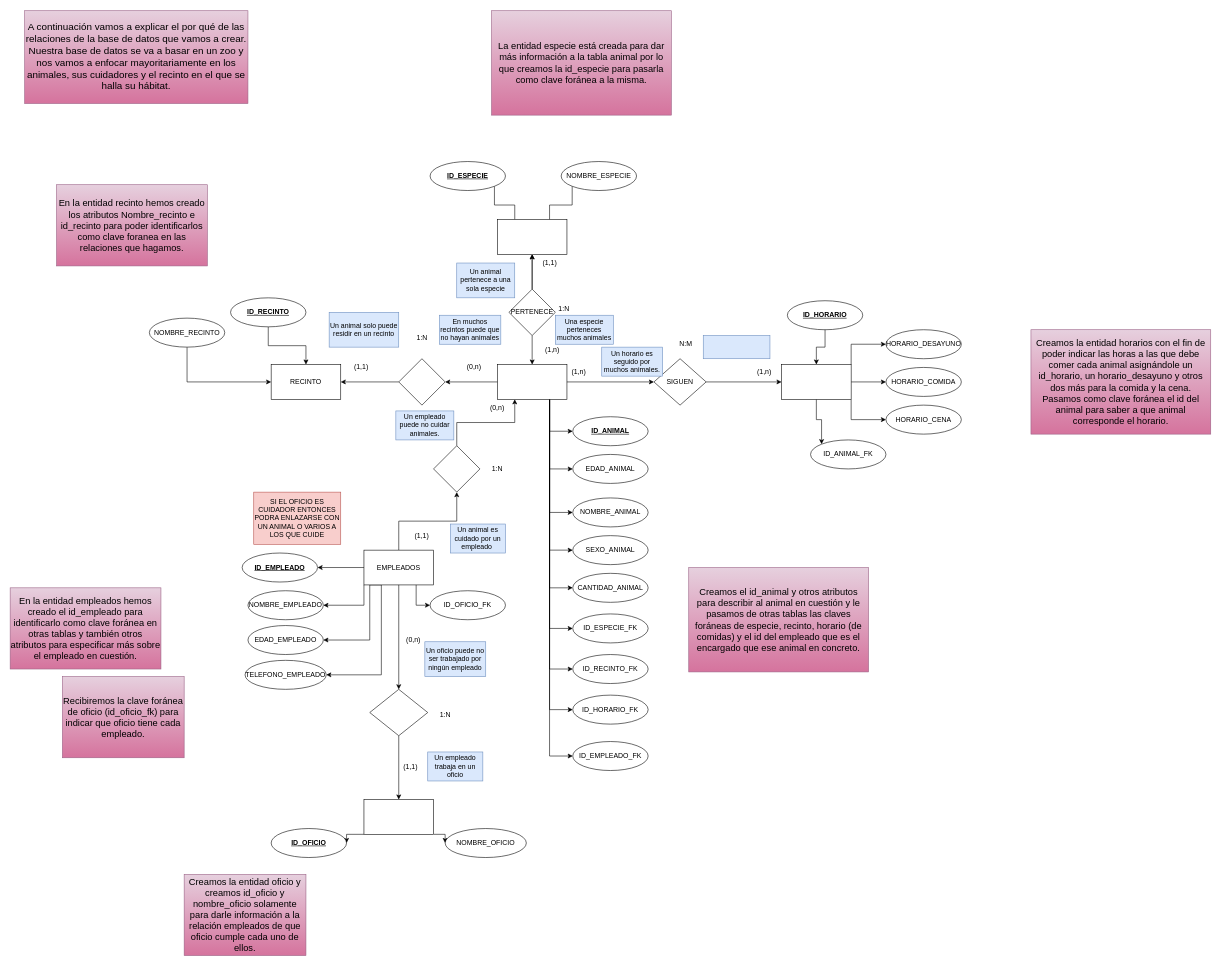
The diagram is 1221 pixels wide and 966 high, and some of its shapes have lost their labels. Here are the shapes that lost their labels. From the top down, the box of each, then its label:
(497, 219, 567, 254): ESPECIE
(703, 335, 770, 359): Muchos animales siguen un mismo horario de comidas
(398, 358, 445, 405): RESIDE
(497, 364, 567, 399): ANIMAL
(781, 364, 851, 399): HORARIOS
(433, 445, 480, 492): CUIDAN
(369, 689, 428, 736): TRABAJA
(363, 799, 434, 834): OFICIO
